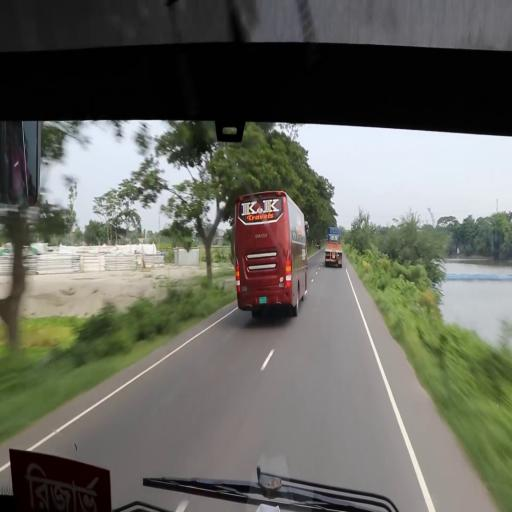bus: (236, 192, 309, 318)
truck: (326, 227, 343, 268)
